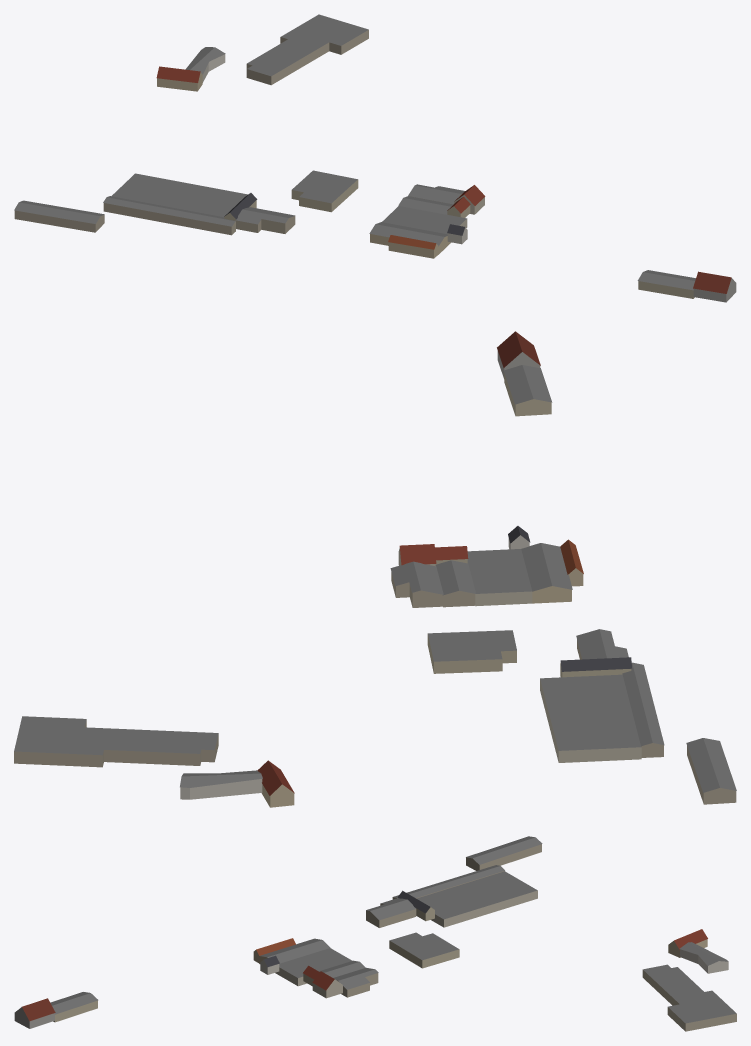
3 renders of one model, top to bottom at view 1: azimuth 30°, elevation 25°; view 2: azimuth 150°, elevation 25°; view 3: azimuth 270°, elevation 25°, orthographic. The views are drawn at different scales.
Parts seen in each view (by area): view 1: buildings; view 2: buildings; view 3: buildings.
Part boxes in pixels (left/top/right/bottom): buildings: left=14, top=14, right=736, bottom=302; buildings: left=14, top=331, right=736, bottom=807; buildings: left=14, top=836, right=736, bottom=1031.
Bounding box in the file's own units: 315 × 24.93 × 480.
